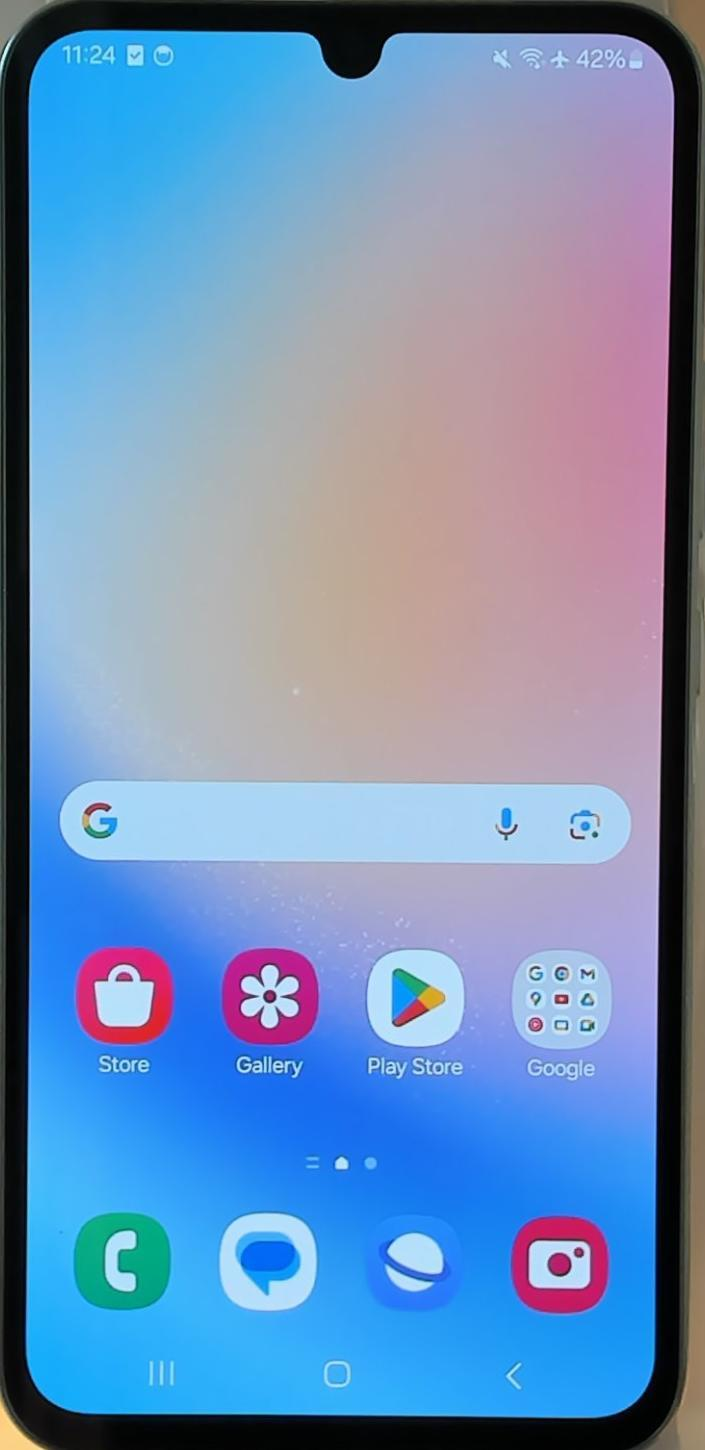CommunBotton: (356, 937, 473, 1086), (214, 935, 324, 1093), (73, 935, 181, 1089), (508, 942, 621, 1087), (65, 1198, 176, 1320), (507, 1196, 612, 1320), (214, 1203, 316, 1322), (356, 1206, 461, 1313)
TextField: (53, 772, 638, 869)
